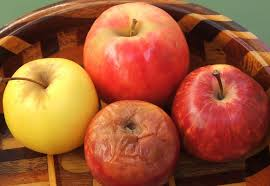apple: (85, 5, 187, 96), (182, 68, 268, 157), (6, 68, 99, 140)
damaged_apple: (83, 101, 179, 185)
